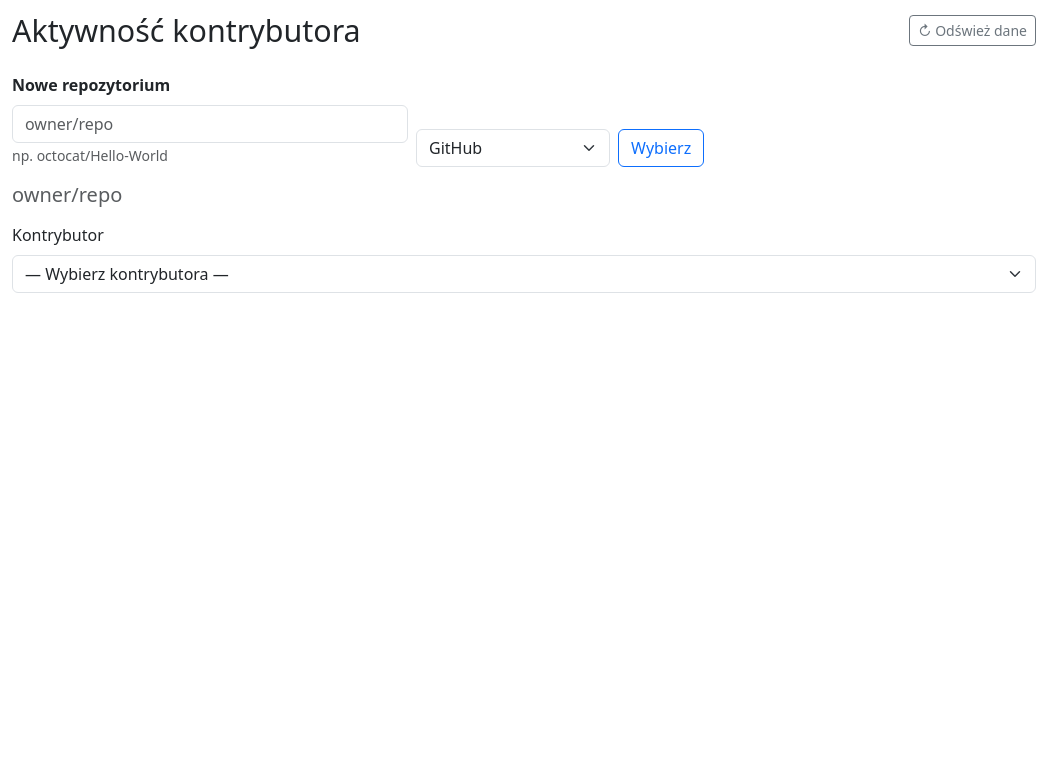
Test case: ActivityDashboardPage tabs › shows three tabs after report loads
Select "alice (10 PR-ów)" in the dropdown labelled "Kontrybutor" at (524, 274), box 12,254 -> 1036,292
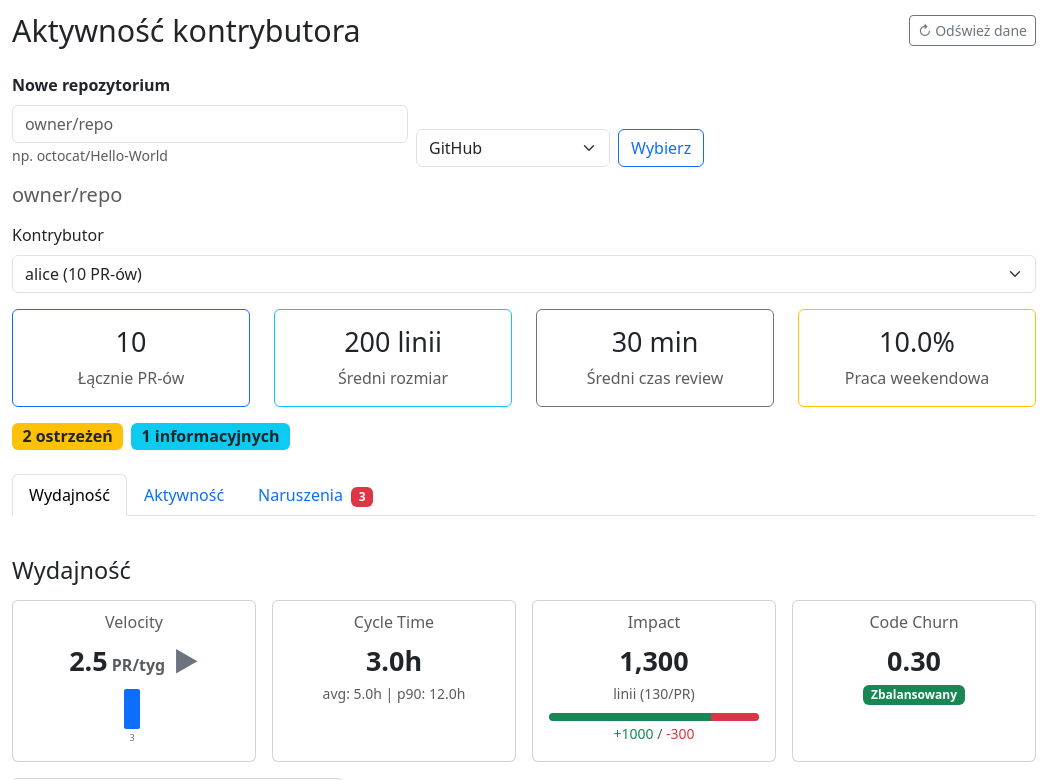
Expected: the element showing "Wydajność Aktywność Naruszenia 3" is shown, 12,474 -> 1036,516
Expected: the number of tabs is 3, 12,474 -> 127,516; 144,484 -> 224,506; 258,484 -> 373,507
Expected: the tab "Wydajność" is shown, 12,474 -> 127,516
